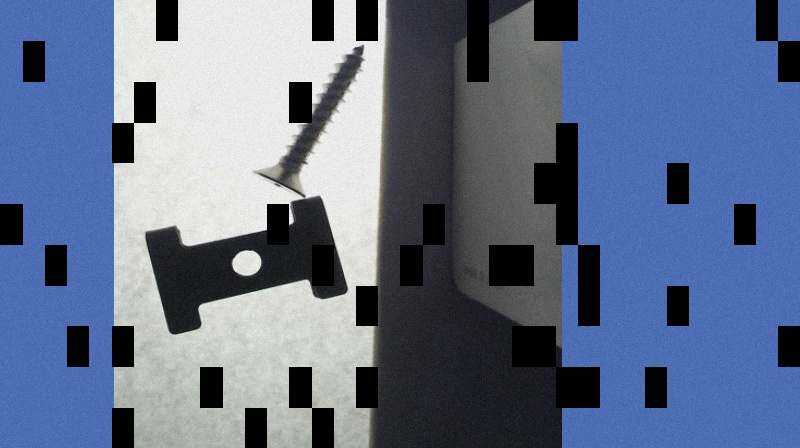O002: (141, 192, 346, 336)
S001: (251, 39, 366, 196)
